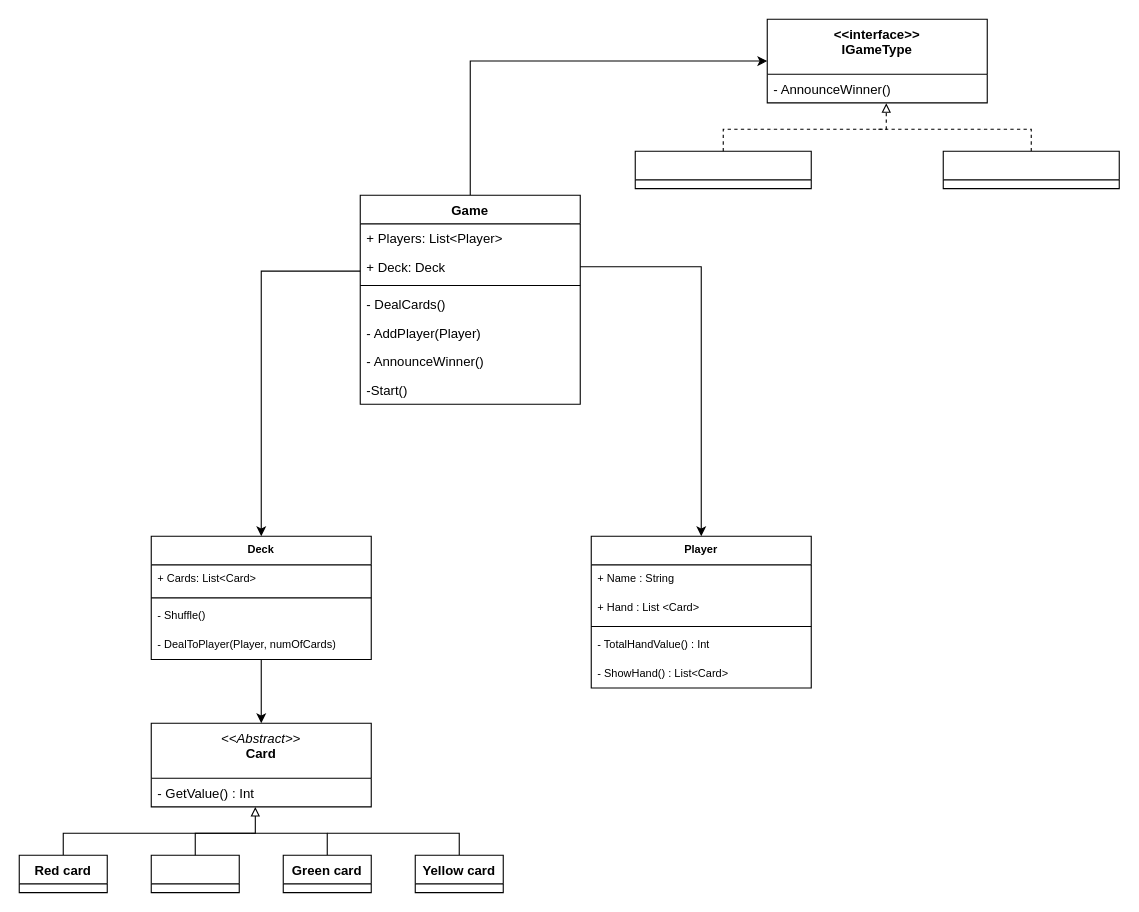
Some shapes in this 1139 by 912 pixel diagram are drawn without their labels. Here are the shapes that lost their labels. From the top down, the centre of each, then its label:
At (x=722, y=169): "HighHand".
At (x=1030, y=169): "LowHand".
At (x=194, y=873): "Blue card".
